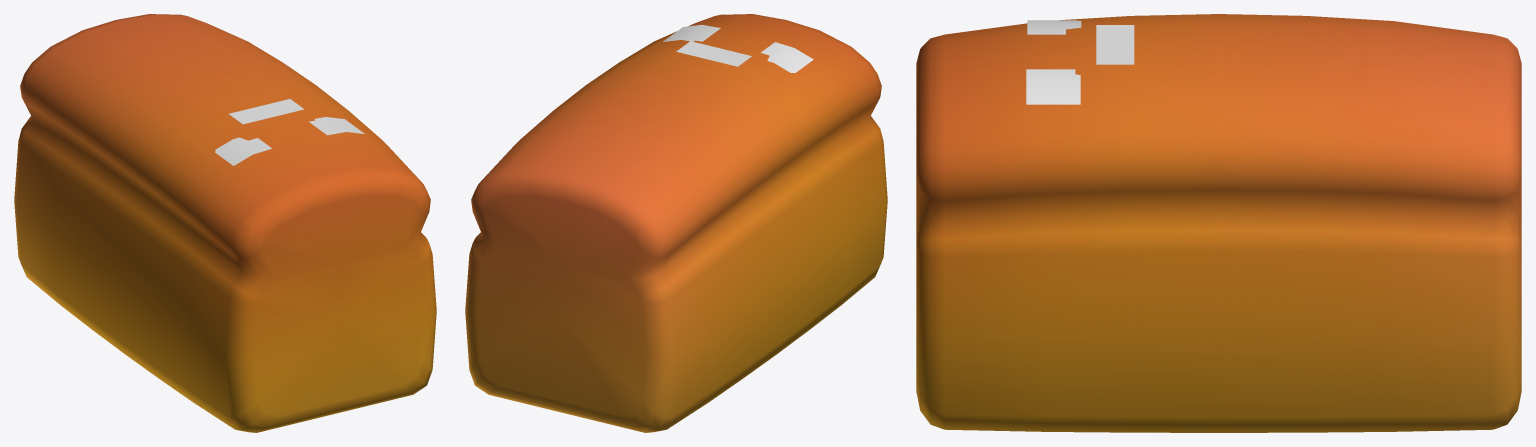
Rendered from bread_smile.fbx.
3 renders of one model, left to right at view 1: azimuth 30°, elevation 25°; view 2: azimuth 150°, elevation 25°; view 3: azimuth 270°, elevation 25°, orthographic. The views are drawn at different scales.
Parts seen in each view (by area): view 1: bread_smile; view 2: bread_smile; view 3: bread_smile.
Part boxes in pixels (x1,y1,x2,y2): bread_smile: [14, 14, 436, 432]; bread_smile: [465, 14, 887, 432]; bread_smile: [916, 14, 1521, 432].
Bounding box in the file's own units: 93.7 × 102 × 169.
Materials: 2 (1 with a texture image).
